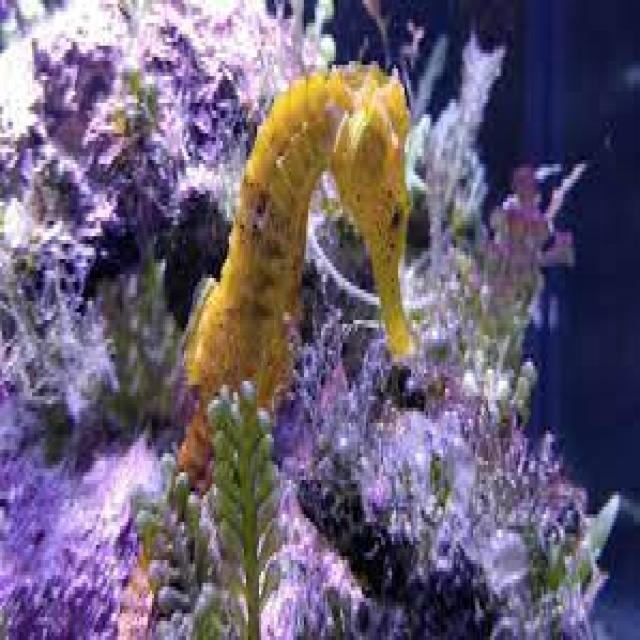SeaHorse: (178, 65, 420, 499)
